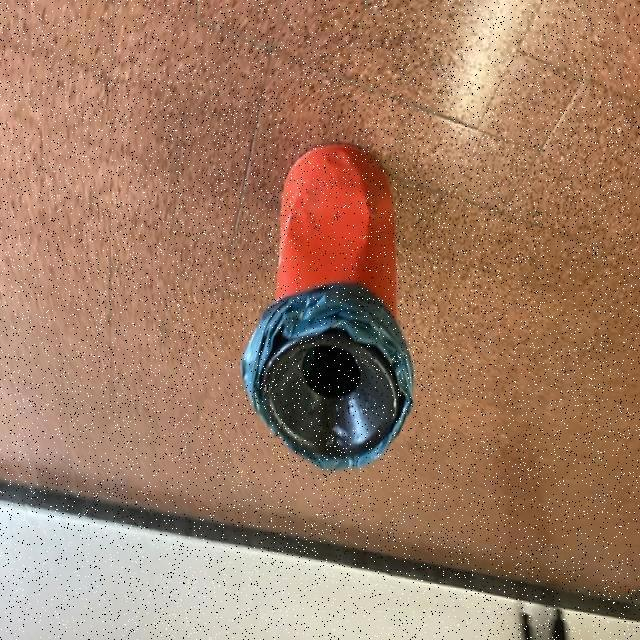garbage container: (214, 127, 438, 508)
